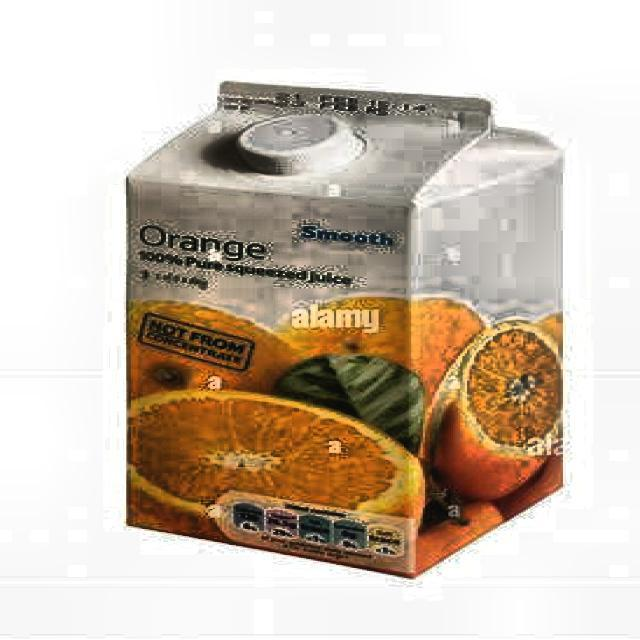cardboard: (122, 79, 568, 578)
